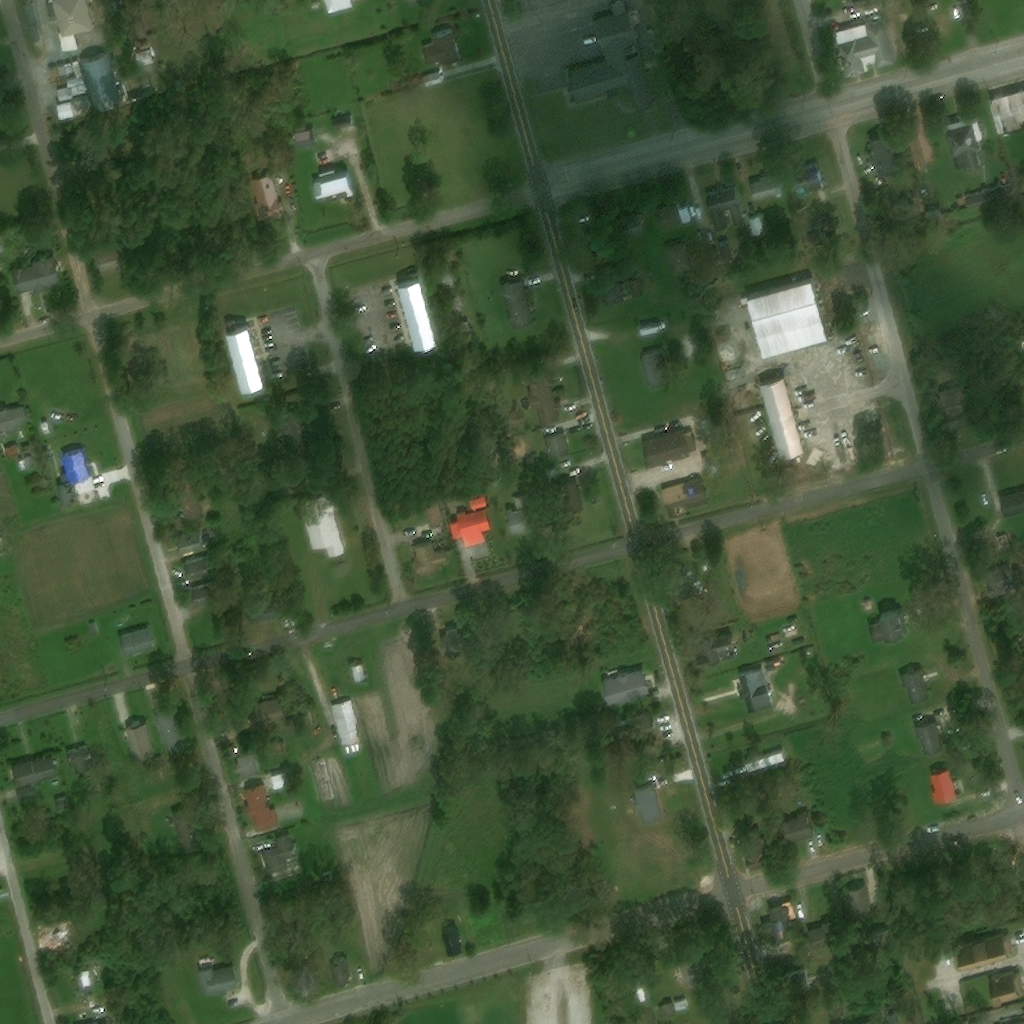no_damage: (566, 0, 655, 112), (742, 280, 828, 358), (831, 21, 898, 82), (758, 378, 801, 460), (390, 281, 435, 353), (298, 495, 345, 561), (222, 328, 263, 394), (951, 932, 1015, 974), (942, 117, 983, 174), (641, 430, 697, 470), (448, 496, 491, 548), (244, 176, 287, 225), (237, 785, 279, 834), (56, 450, 92, 507), (932, 387, 973, 437), (703, 187, 745, 233), (10, 257, 59, 296), (735, 668, 774, 716), (661, 479, 707, 519), (527, 371, 561, 425), (690, 634, 736, 672), (260, 835, 302, 876), (865, 134, 900, 182), (499, 281, 533, 330), (599, 672, 648, 705), (421, 31, 463, 69), (175, 474, 208, 522), (987, 91, 1022, 136), (759, 903, 795, 946), (50, 0, 92, 36), (275, 409, 310, 452), (11, 758, 59, 789), (82, 56, 118, 97), (639, 351, 674, 393), (964, 184, 1016, 212), (331, 703, 362, 749), (243, 699, 286, 732), (311, 173, 355, 205), (154, 711, 188, 752), (411, 544, 447, 580), (197, 968, 240, 998), (983, 972, 1022, 1005), (867, 612, 907, 644), (777, 812, 815, 845), (674, 943, 703, 986), (171, 812, 200, 855), (702, 449, 742, 480), (928, 770, 960, 808), (631, 786, 661, 825), (912, 722, 945, 757), (741, 752, 787, 777), (125, 725, 156, 762), (666, 569, 696, 607), (439, 626, 473, 659), (595, 269, 623, 309), (736, 828, 763, 869), (745, 175, 784, 203), (980, 564, 1014, 596), (436, 272, 463, 312), (233, 744, 261, 782), (0, 406, 30, 441), (653, 203, 691, 230), (900, 670, 929, 705), (118, 631, 155, 658), (245, 598, 281, 625), (791, 163, 822, 194), (93, 245, 125, 274), (314, 762, 335, 806), (557, 483, 583, 517), (291, 968, 319, 999), (664, 244, 692, 274), (846, 886, 872, 918), (190, 583, 222, 609), (329, 959, 356, 989), (441, 925, 464, 959), (184, 558, 215, 582), (66, 749, 93, 776), (851, 0, 902, 14), (822, 988, 844, 1020), (544, 434, 570, 460), (620, 214, 644, 241), (999, 492, 1022, 520), (177, 533, 207, 554), (505, 509, 529, 534), (40, 935, 70, 953), (425, 506, 446, 531), (265, 773, 291, 793), (292, 132, 319, 151), (76, 967, 96, 992), (330, 115, 356, 133), (325, 0, 354, 16), (7, 787, 36, 803), (58, 33, 79, 55), (793, 970, 812, 994), (129, 22, 149, 44), (716, 243, 733, 266), (351, 664, 368, 687), (707, 403, 728, 421), (805, 930, 822, 952), (421, 75, 445, 90), (747, 219, 764, 239), (57, 106, 77, 123), (388, 80, 406, 98), (138, 67, 157, 84), (1011, 633, 1022, 661), (924, 186, 938, 208), (659, 1004, 676, 1022), (136, 52, 154, 69), (628, 280, 644, 298), (3, 447, 21, 463), (54, 798, 71, 812), (71, 88, 88, 100), (926, 210, 942, 222), (309, 712, 321, 728), (673, 1001, 688, 1013), (271, 743, 285, 755), (23, 458, 35, 472), (41, 424, 51, 439), (887, 1013, 901, 1023), (66, 81, 79, 91), (406, 0, 423, 7), (433, 917, 442, 930), (90, 626, 99, 639), (50, 81, 63, 90), (862, 602, 872, 613), (746, 755, 758, 764), (72, 64, 81, 76), (957, 201, 965, 211), (49, 74, 59, 82), (65, 67, 72, 75)
unclassified: (1008, 380, 1022, 406), (905, 205, 921, 222)
